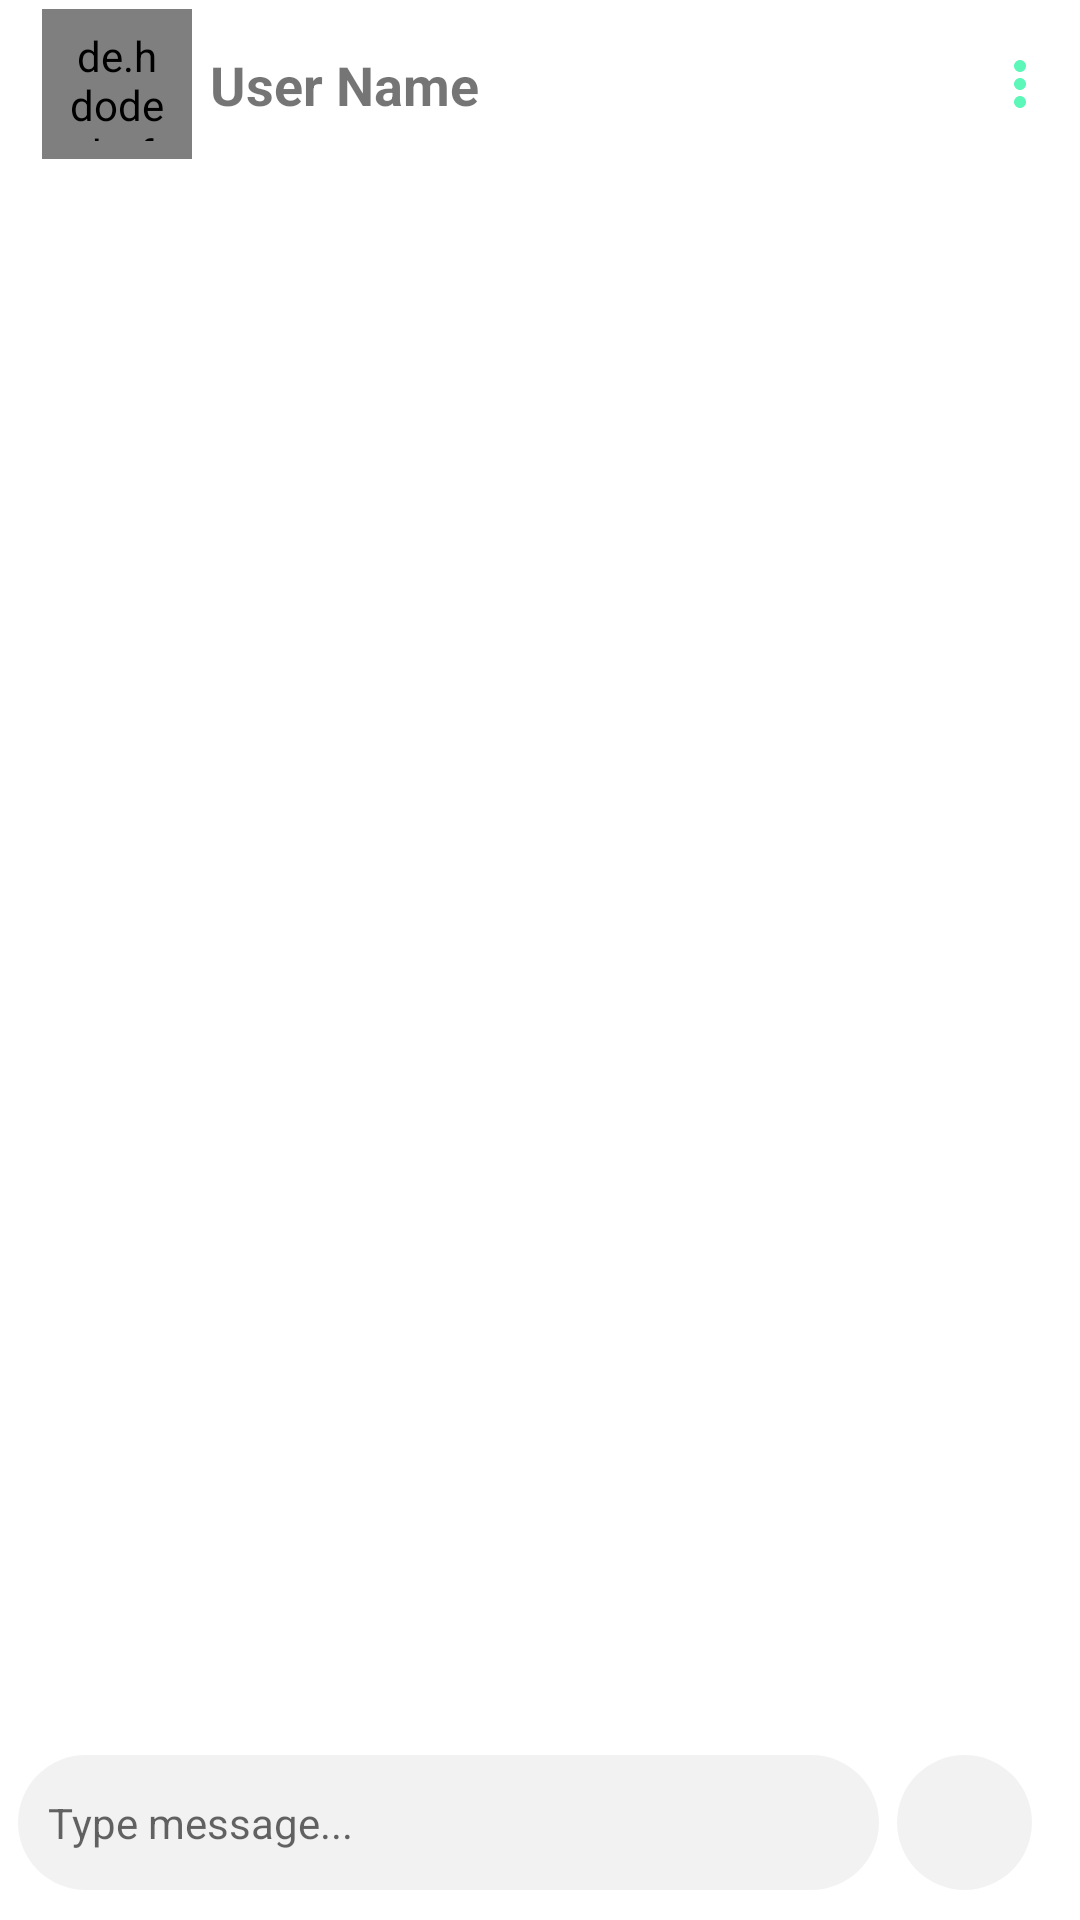

Screen size 1080px×1920px. Icon name, then its center in pixels as point (x, y):
more: point (1020, 84)
